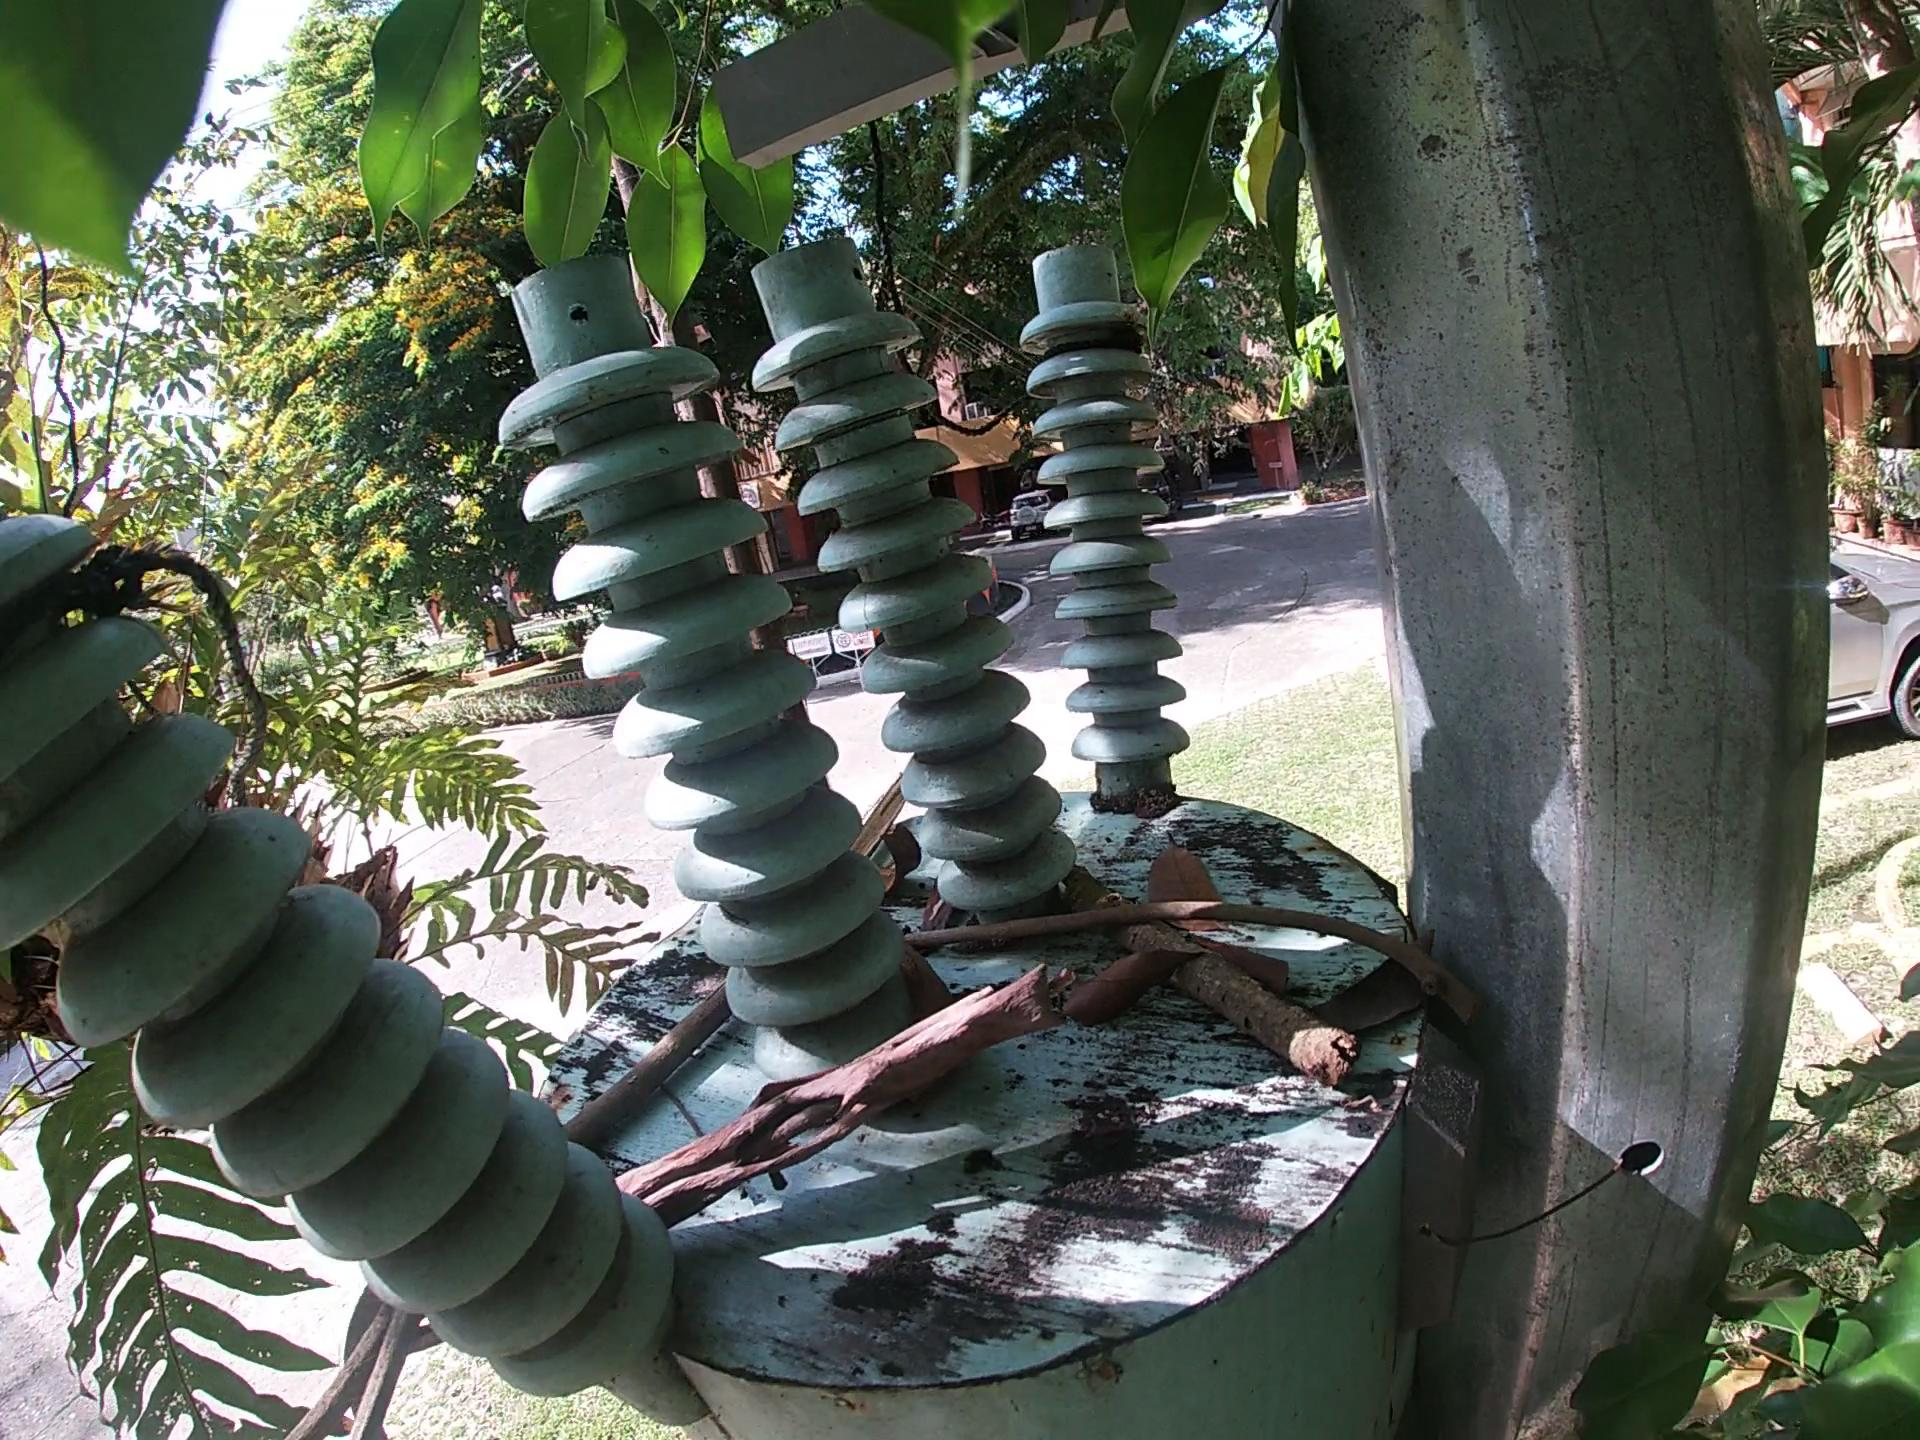leaf: (1305, 927, 1439, 1045), (1058, 933, 1209, 1038), (1140, 827, 1232, 930), (1209, 936, 1300, 995)
mahogany fruit: (897, 936, 948, 1027), (874, 815, 928, 895)
tree branch: (611, 959, 1085, 1230), (887, 895, 1491, 1038), (1061, 856, 1364, 1095), (552, 976, 741, 1156), (277, 1292, 428, 1440), (857, 771, 912, 862)
